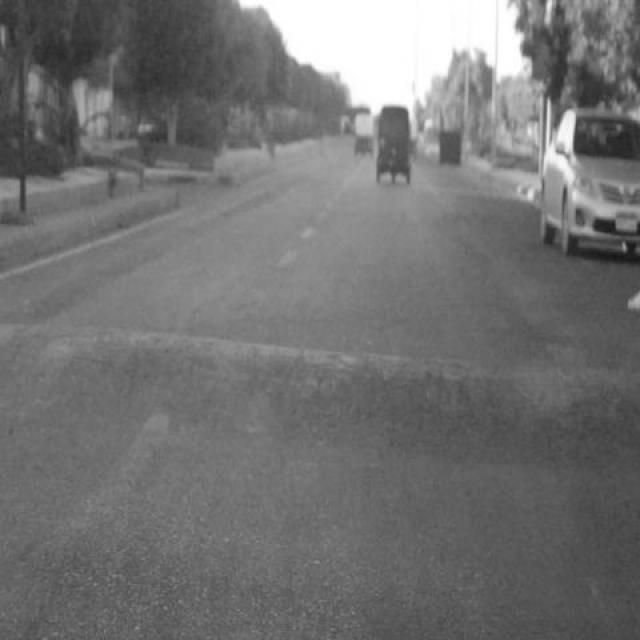Unmarked Bump: (0, 331, 640, 474)
